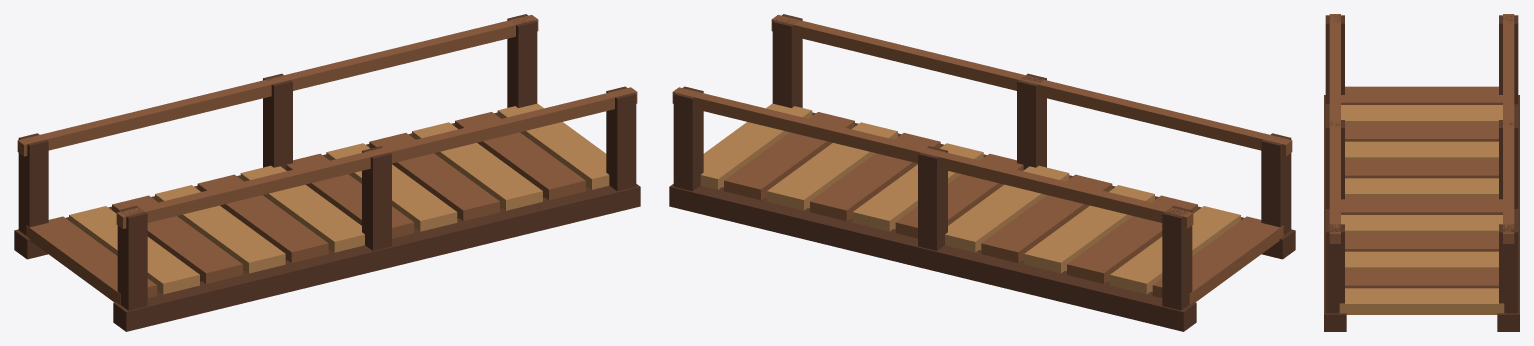
File: CA_Puente_Madera_Corto.obj
The picture shows the model from 3 angles, left to right: view 1: azimuth 30°, elevation 25°; view 2: azimuth 150°, elevation 25°; view 3: azimuth 270°, elevation 25°; orthographic projection. The views are drawn at different scales.
Visible parts, largest first — view 1: CA_Puente_Madera_Corto; view 2: CA_Puente_Madera_Corto; view 3: CA_Puente_Madera_Corto.
Boxes of the visible parts, box(x1,y1,x2,y2) form: CA_Puente_Madera_Corto: box(14, 14, 640, 331); CA_Puente_Madera_Corto: box(669, 14, 1295, 331); CA_Puente_Madera_Corto: box(1324, 14, 1519, 331).
Size of the model in its own units: 6 by 1.25 by 2.26.
